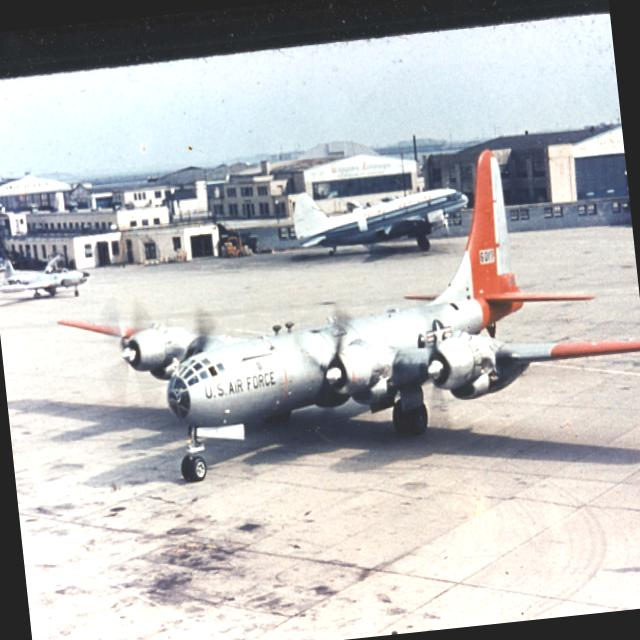Vehicle: (0, 254, 6, 272)
